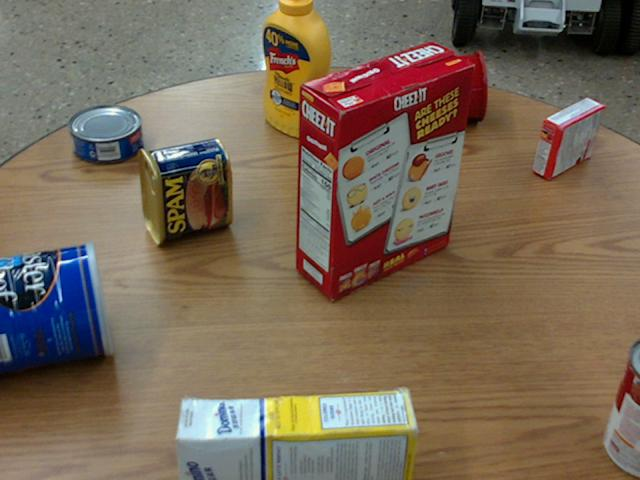cracker_box: (295, 41, 471, 298)
gelatin_box: (532, 98, 604, 179)
master_chef_can: (0, 241, 113, 373)
mug: (413, 48, 486, 120)
mustard_bottle: (261, 0, 328, 138)
potted_meat_can: (136, 136, 230, 243)
sugar_box: (171, 389, 416, 479)
tomato_soup_can: (602, 335, 639, 475)
tuna_fish_can: (69, 104, 142, 162)
